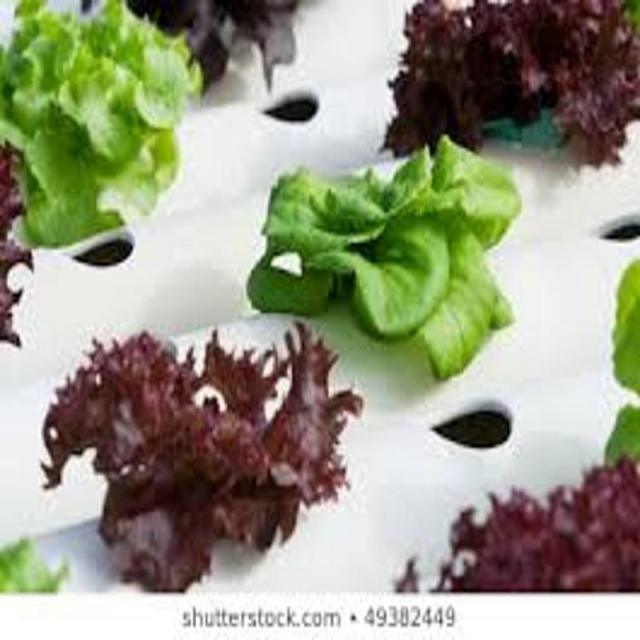Lettuce: (38, 328, 365, 595), (250, 138, 523, 375), (0, 0, 206, 251), (376, 0, 640, 165), (430, 457, 640, 595)
